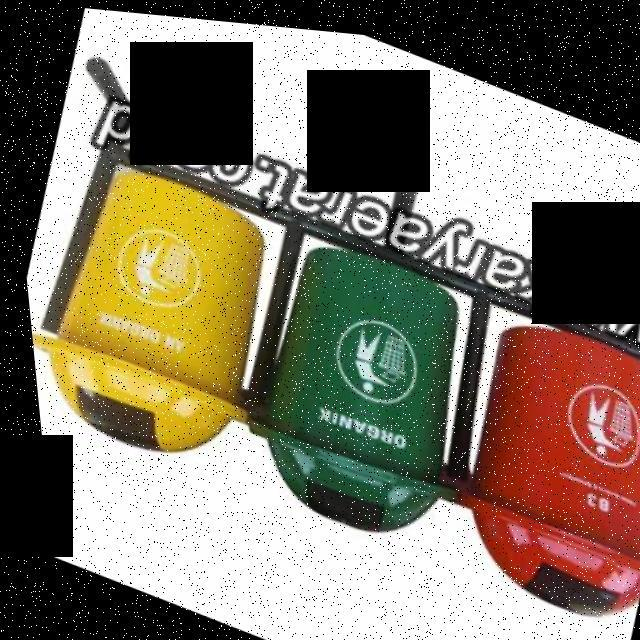bin: (9, 123, 294, 495), (197, 205, 489, 559), (385, 280, 640, 640)
